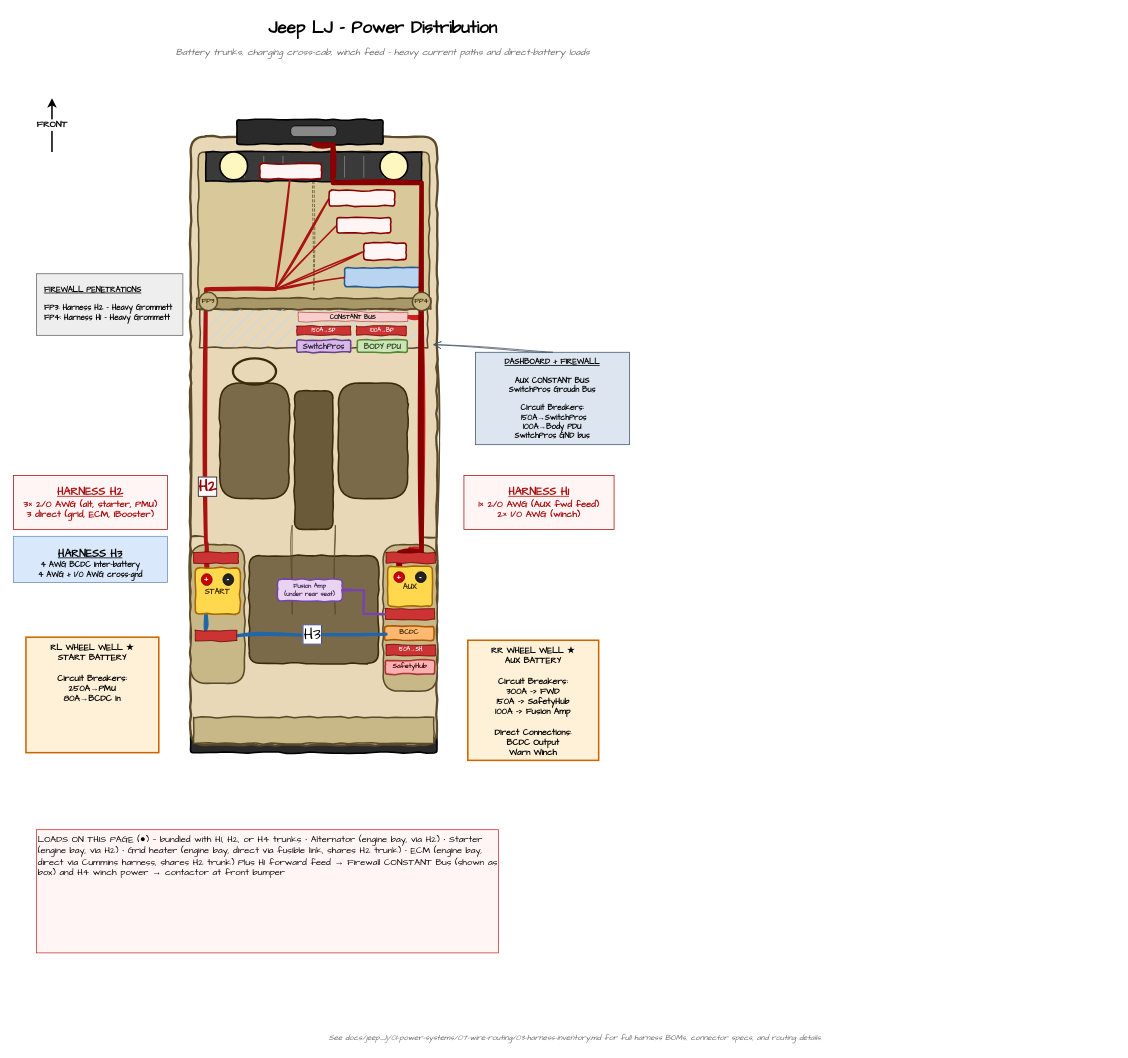
Some shapes in this 1128 by 1058 pixel diagram are drawn without their labels. The shapes that lost their labels are listed below. From the top down, each one's centre as x and y in pixels, then its label:
At pixel 290 170: "Alternator".
At pixel 361 197: "Grid heater".
At pixel 363 224: "Starter".
At pixel 385 251: "ECM".
At pixel 382 276: "PMU24".
At pixel 215 557: "250A→PMU".
At pixel 410 557: "300A→fwd".
At pixel 410 613: "100A→Fusion".
At pixel 215 635: "80A→BCDC in".
